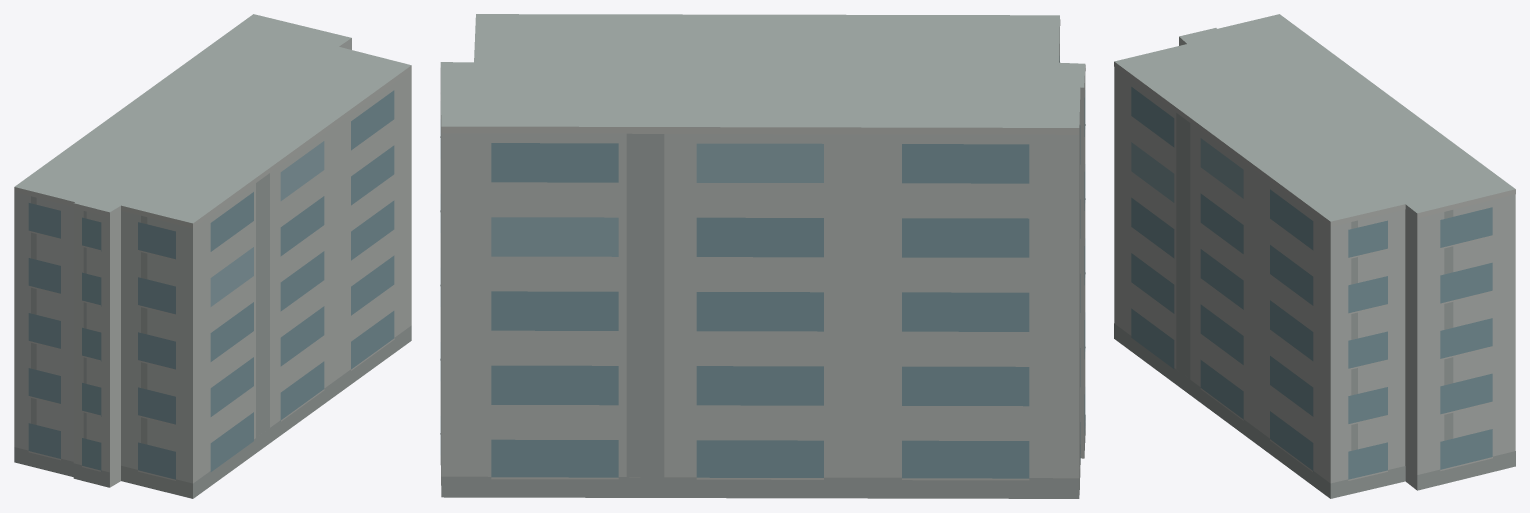
The model's file is survey-upis-32628186.glb.
3 views of the same model, side by side, from view 1: azimuth 30°, elevation 25°; view 2: azimuth 150°, elevation 25°; view 3: azimuth 270°, elevation 25° (orthographic). The views are drawn at different scales.
Visible parts, largest first — view 1: survey-upis-32628186.tmp; view 2: survey-upis-32628186.tmp; view 3: survey-upis-32628186.tmp.
Boxes of the visible parts, bbox=[...] form: survey-upis-32628186.tmp: bbox=[14, 14, 411, 498]; survey-upis-32628186.tmp: bbox=[440, 14, 1085, 498]; survey-upis-32628186.tmp: bbox=[1114, 14, 1515, 498].
Bounding box in the file's own units: 21.05 × 13.1 × 17.21.
